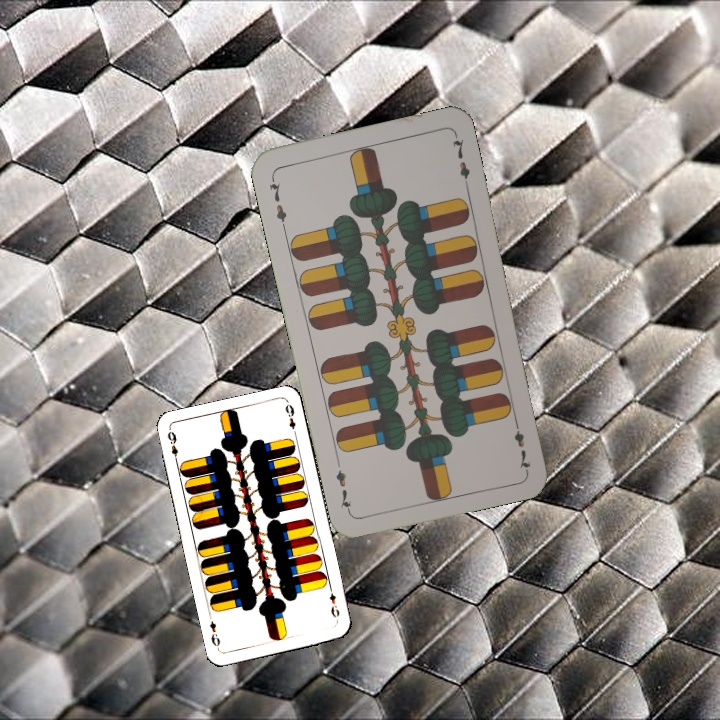E7: (265, 172, 290, 231), (510, 414, 533, 473)
E9: (163, 427, 181, 466), (325, 584, 342, 620)
